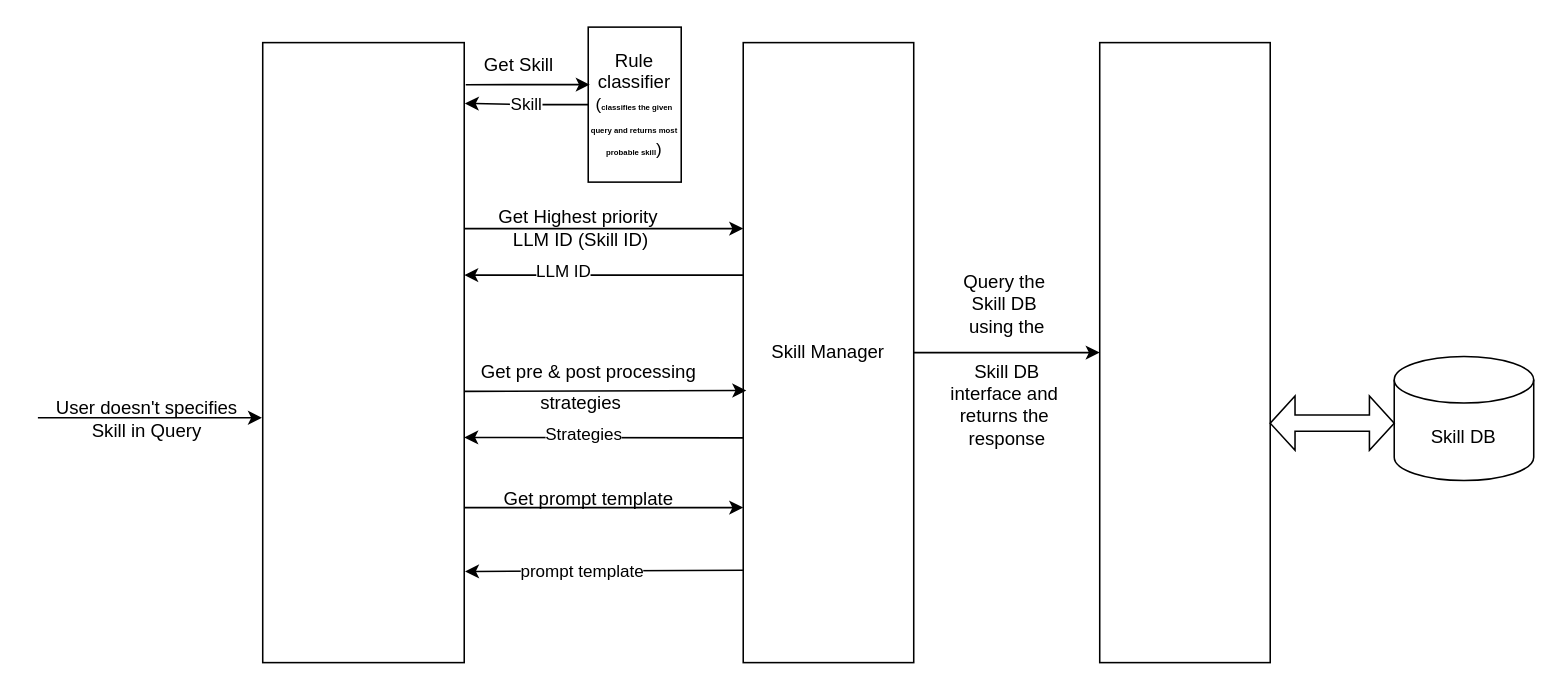
This 1562x690 diagram has some shape labels left out. The shapes that lost their labels are listed below. From the top down, each one's centre as x and y in pixels, then its label:
At pixel 362 352: "Action Manager".
At pixel 1184 352: "Skill DB Interface".
